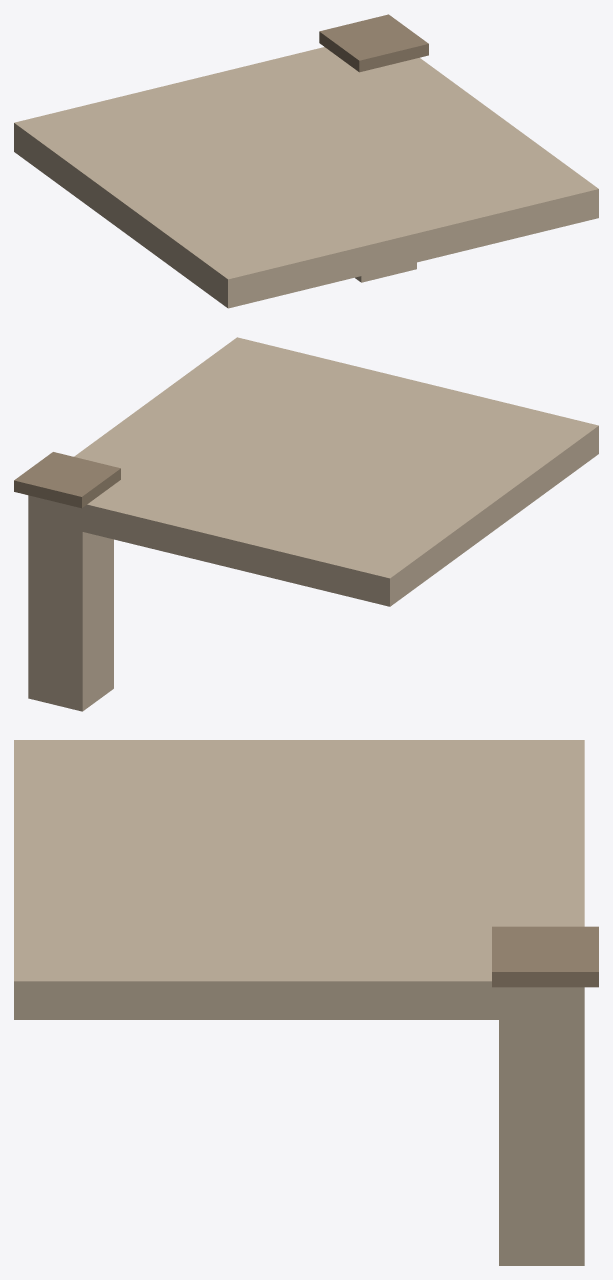
The model's file is city_canal_corner_inner.glb.
The picture shows the model from 3 angles, top to bottom: view 1: azimuth 30°, elevation 25°; view 2: azimuth 150°, elevation 25°; view 3: azimuth 270°, elevation 25°; orthographic projection. The views are drawn at different scales.
Visible parts, largest first — view 1: CityCanalCornerInner_Paving, CityCanalCornerInner_Coping, CityCanalCornerInner_Block; view 2: CityCanalCornerInner_Paving, CityCanalCornerInner_Block, CityCanalCornerInner_Coping; view 3: CityCanalCornerInner_Paving, CityCanalCornerInner_Block, CityCanalCornerInner_Coping.
Part boxes in pixels (x1,y1,x2,y2): CityCanalCornerInner_Paving: [14, 47, 598, 308]; CityCanalCornerInner_Coping: [319, 14, 428, 72]; CityCanalCornerInner_Block: [355, 262, 416, 282]; CityCanalCornerInner_Paving: [28, 337, 598, 606]; CityCanalCornerInner_Block: [28, 495, 113, 711]; CityCanalCornerInner_Coping: [14, 452, 120, 508]; CityCanalCornerInner_Paving: [14, 740, 584, 1019]; CityCanalCornerInner_Block: [499, 987, 584, 1265]; CityCanalCornerInner_Coping: [492, 926, 598, 987].
Bounding box in the file's own units: 4.1 × 2.32 × 4.1.
